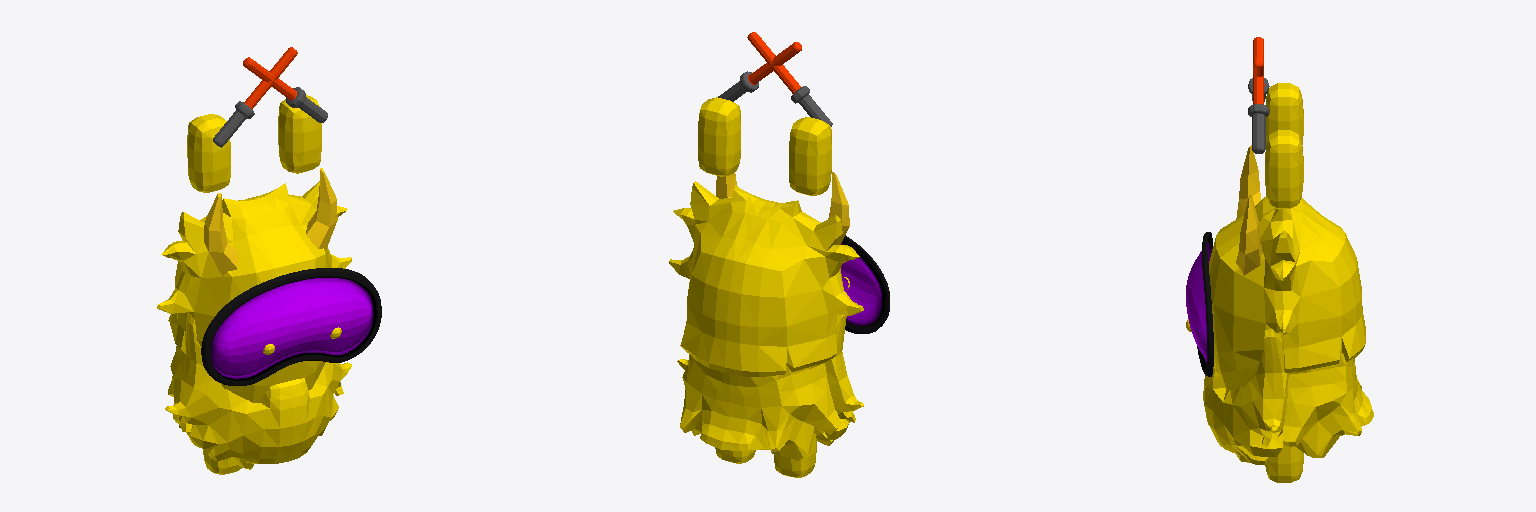
3 views of the same model, side by side, from view 1: azimuth 30°, elevation 25°; view 2: azimuth 150°, elevation 25°; view 3: azimuth 270°, elevation 25° (orthographic).
Visible parts, largest first — view 1: rm_dff.007; view 2: rm_dff.007; view 3: rm_dff.007.
Boxes of the visible parts, box(x1,y1,x2,y2) form: rm_dff.007: box(157, 47, 381, 474); rm_dff.007: box(669, 32, 889, 477); rm_dff.007: box(1186, 37, 1373, 482).
Bounding box in the file's own units: 4.39 × 9.03 × 3.68.
Materials: 2 (1 with a texture image).